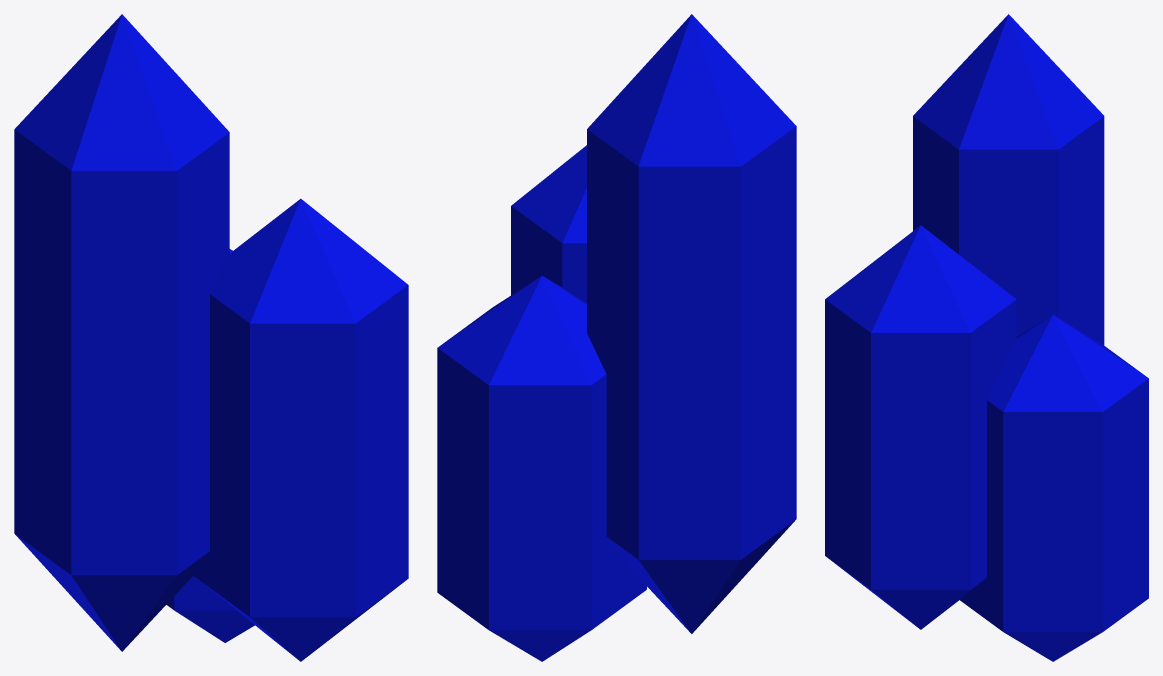
File: Crystal.fbx
3 views of the same model, side by side, from view 1: azimuth 30°, elevation 25°; view 2: azimuth 150°, elevation 25°; view 3: azimuth 270°, elevation 25° (orthographic). The views are drawn at different scales.
Parts seen in each view (by area): view 1: Crystal; view 2: Crystal; view 3: Crystal.
Part boxes in pixels (x1,y1,x2,y2): Crystal: (14, 14, 408, 661); Crystal: (437, 14, 796, 661); Crystal: (825, 14, 1148, 661).
Size of the model in its own units: 362 by 819 by 405.
